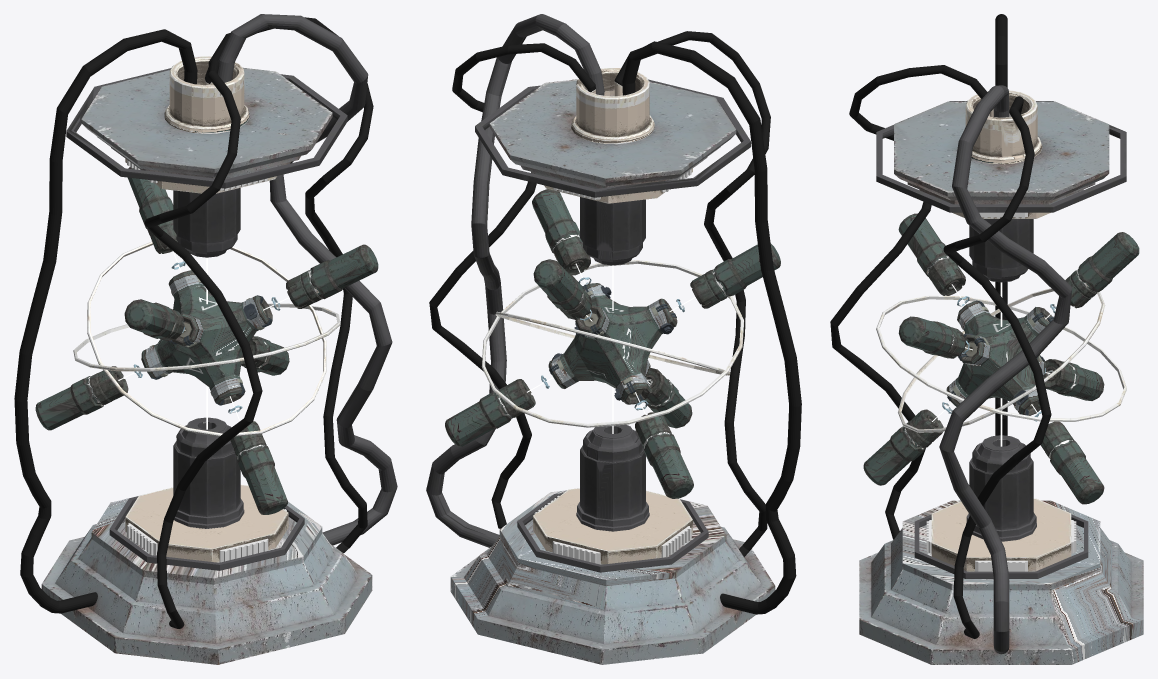
The model's file is artificial_star.glb.
The picture shows the model from 3 angles, left to right: view 1: azimuth 30°, elevation 25°; view 2: azimuth 150°, elevation 25°; view 3: azimuth 270°, elevation 25°; orthographic projection. The views are drawn at different scales.
Parts seen in each view (by area): view 1: defaultMaterial (×2); view 2: defaultMaterial (×2); view 3: defaultMaterial (×2).
Part boxes in pixels (x1=…): defaultMaterial (×2): x1=14, y1=14, x2=397, y2=664; defaultMaterial (×2): x1=426, y1=14, x2=801, y2=664; defaultMaterial (×2): x1=830, y1=14, x2=1143, y2=664.
Bounding box in the file's own units: 0.6926 × 1 × 0.5158.
Materials: 2 (2 with a texture image).
